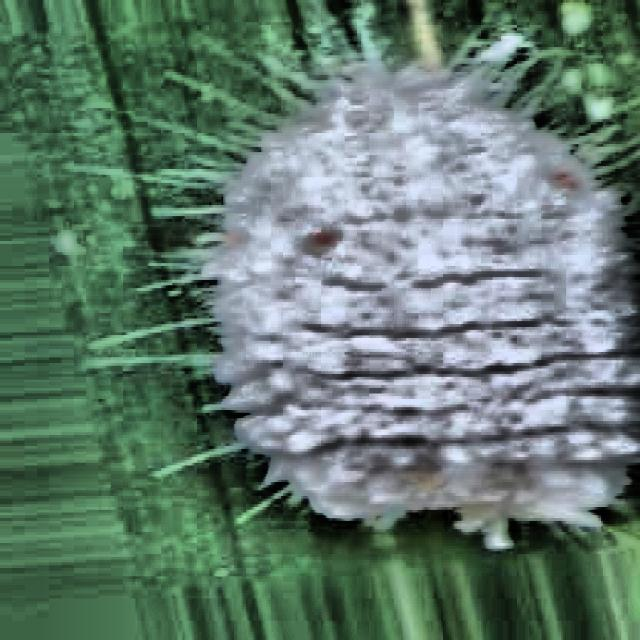Mealy-bug: (111, 72, 640, 640)
